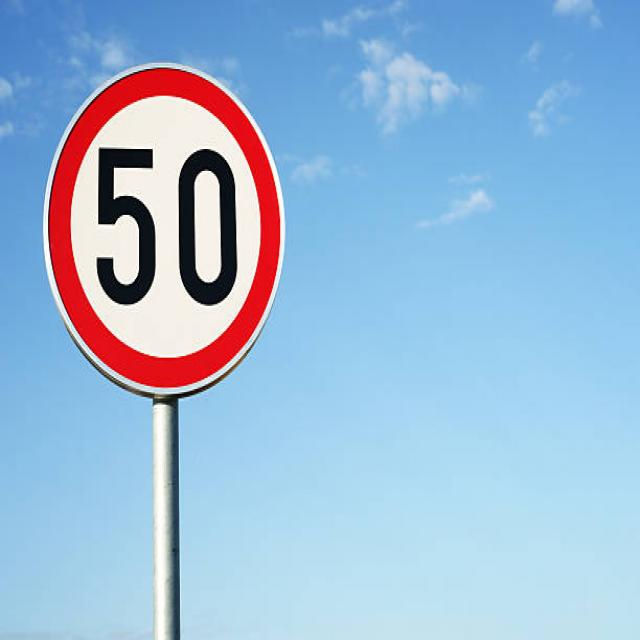speed_limit_50: (43, 51, 290, 402)
